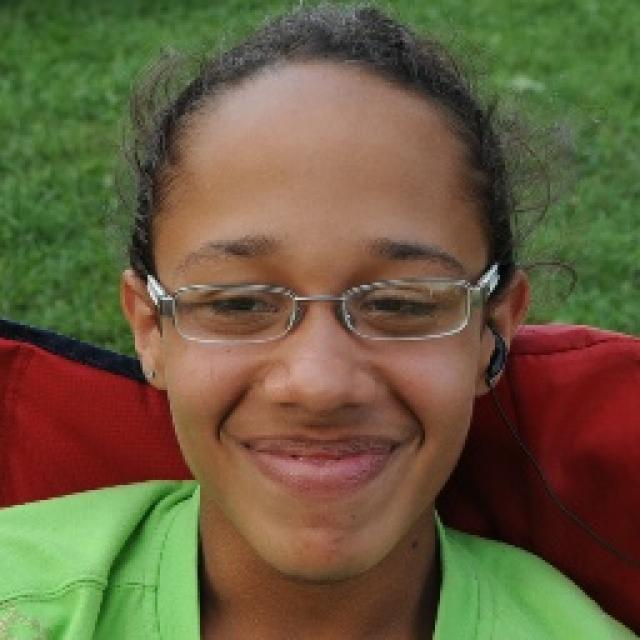earlobe: (472, 352, 508, 399), (140, 342, 169, 391)
eye: (201, 293, 279, 320), (358, 293, 438, 319)
nose: (264, 393, 377, 451)
wholeear: (472, 269, 530, 399), (120, 269, 169, 390)
